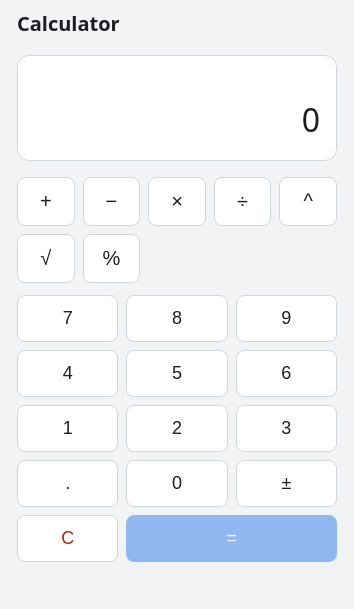
it: App › keeps the rejected computation ready to retype after a 422
Click the button "8" at [177, 318], box left=126, top=295, right=228, bottom=342
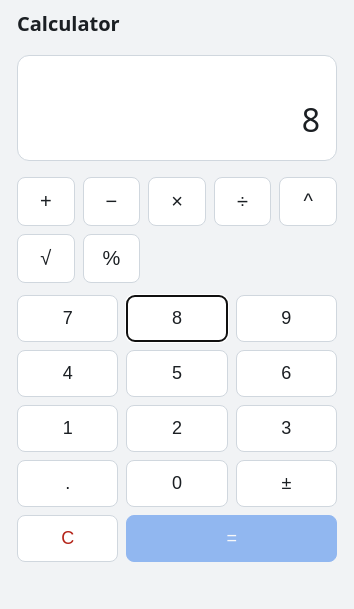
Click the button named "Division" at [243, 202], box left=214, top=177, right=271, bottom=226
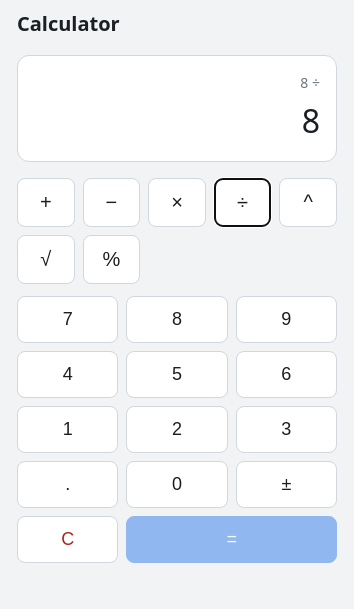
Click the button "0" at [177, 484], box left=126, top=461, right=228, bottom=508
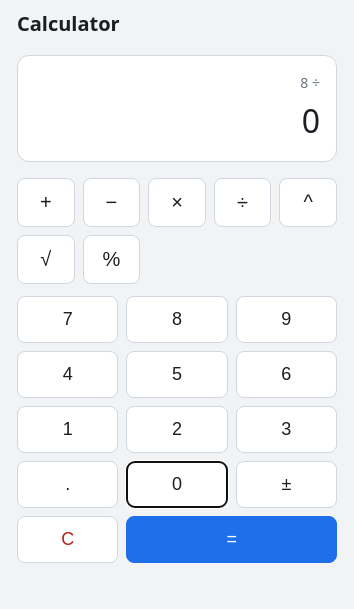
Click the button named "Equals" at [232, 540], box left=126, top=516, right=337, bottom=563
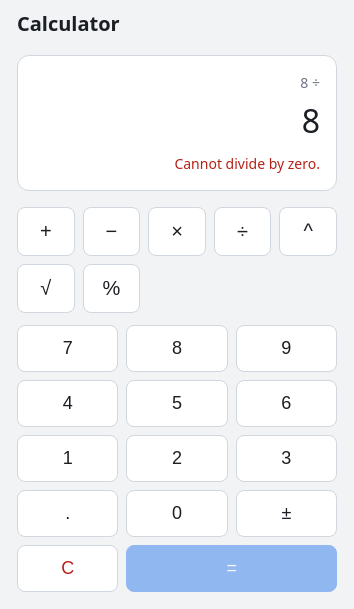
Expected: the message "Cannot divide by zero." is shown, left=174, top=154, right=320, bottom=173
Expected: the text "8" is shown, left=302, top=99, right=320, bottom=142
Expected: the button named "Equals" is disabled, left=126, top=545, right=337, bottom=592
Click the button "4" at [68, 404], box left=17, top=380, right=118, bottom=427
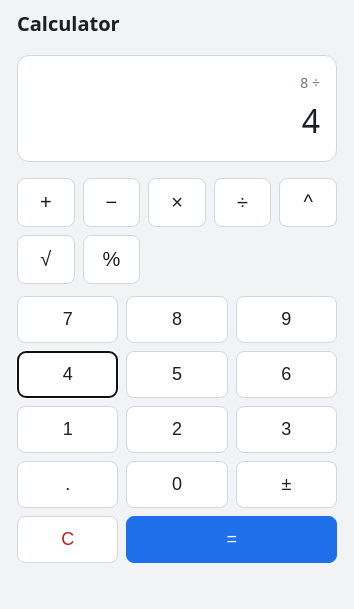
Expected: the button named "Equals" is enabled, left=126, top=516, right=337, bottom=563
Expected: the message "Cannot divide by zero." is gone
